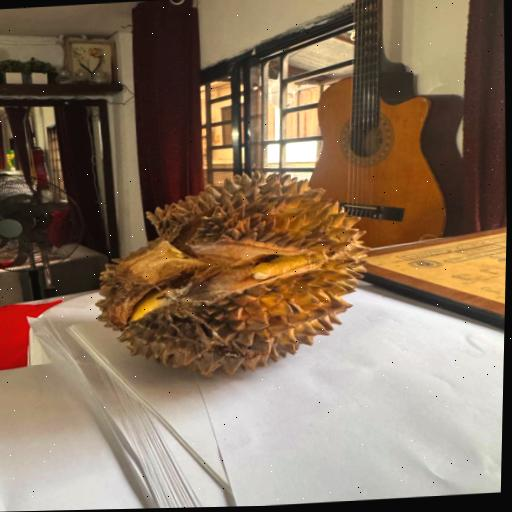rot: (77, 147, 394, 390)
